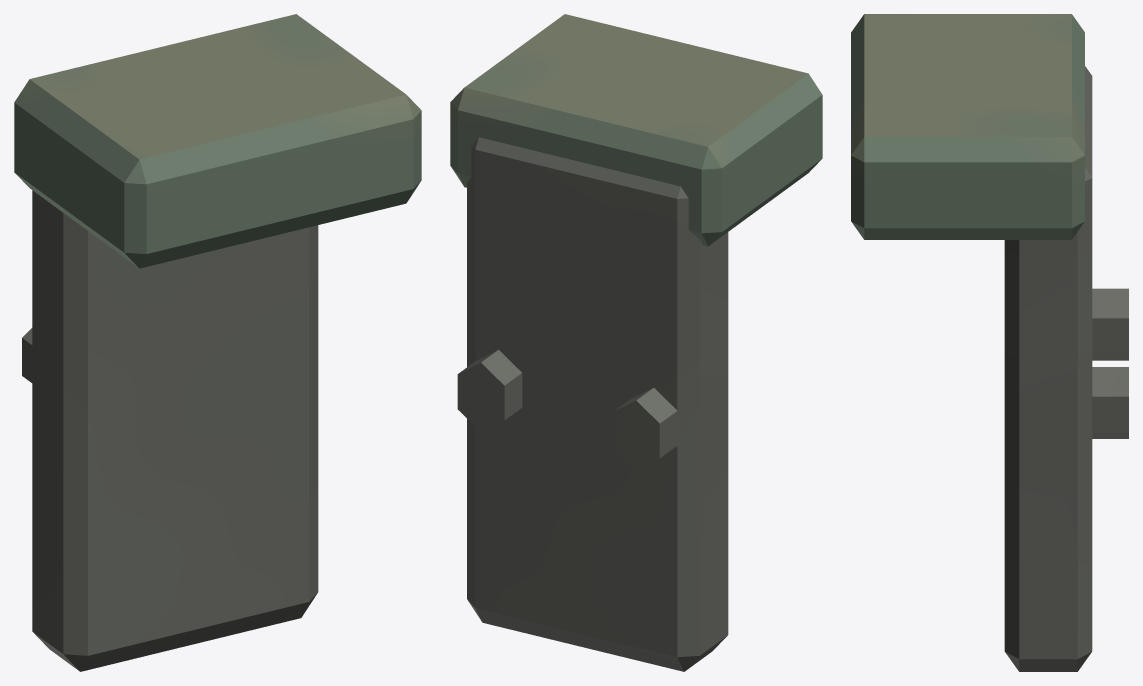
The model's file is WarrensC_PWC08_PipeWallBracket_Mars_SM.fbx.
3 views of the same model, side by side, from view 1: azimuth 30°, elevation 25°; view 2: azimuth 150°, elevation 25°; view 3: azimuth 270°, elevation 25° (orthographic). The views are drawn at different scales.
Parts seen in each view (by area): view 1: WarrensC_PWC08_PipeWallBracket_Mars_SM.001; view 2: WarrensC_PWC08_PipeWallBracket_Mars_SM.001; view 3: WarrensC_PWC08_PipeWallBracket_Mars_SM.001.
Boxes of the visible parts, bbox=[...] form: WarrensC_PWC08_PipeWallBracket_Mars_SM.001: bbox=[14, 14, 421, 671]; WarrensC_PWC08_PipeWallBracket_Mars_SM.001: bbox=[450, 14, 822, 671]; WarrensC_PWC08_PipeWallBracket_Mars_SM.001: bbox=[851, 14, 1128, 671].
Bounding box in the file's own units: 35 × 30 × 65.
